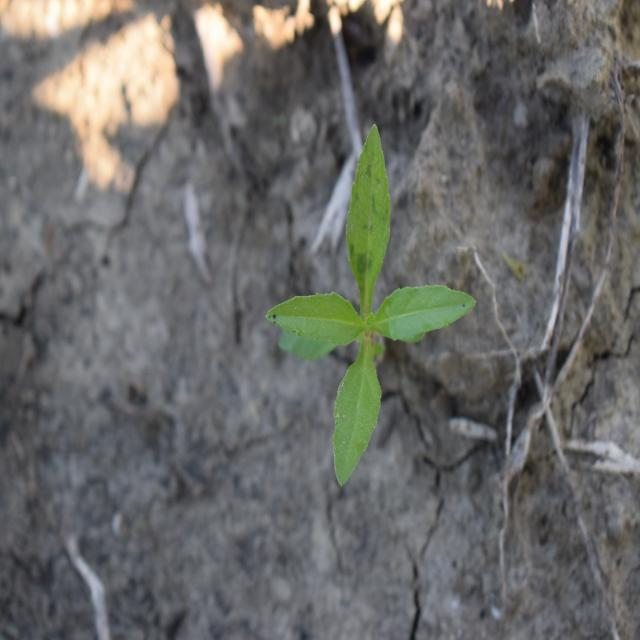Eclipta: (264, 123, 478, 488)
